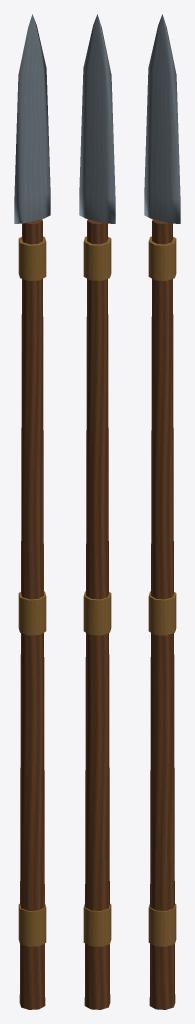
File: javelin.lod2.glb
3 renders of one model, left to right at view 1: azimuth 30°, elevation 25°; view 2: azimuth 150°, elevation 25°; view 3: azimuth 330°, elevation 25°, orthographic.
Parts seen in each view (by area): view 1: wood.0, blade, brass.3, brass.2, brass.1; view 2: wood.0, blade, brass.3, brass.2, brass.1; view 3: wood.0, blade, brass.3, brass.2, brass.1.
Part boxes in pixels (x1,y1,x2,y2): wood.0: (19,219,45,1009); blade: (14,14,50,223); brass.3: (18,236,46,280); brass.2: (18,591,46,635); brass.1: (18,903,46,946); wood.0: (84,219,110,1009); blade: (79,14,115,223); brass.3: (83,236,111,280); brass.2: (83,591,111,635); brass.1: (83,903,111,946); wood.0: (149,219,175,1009); blade: (144,14,180,223); brass.3: (148,236,176,280); brass.2: (148,591,176,635); brass.1: (148,903,176,946).
Size of the model in its own units: 0.07 by 1.83 by 0.048.
Materials: 3 (3 with a texture image).
